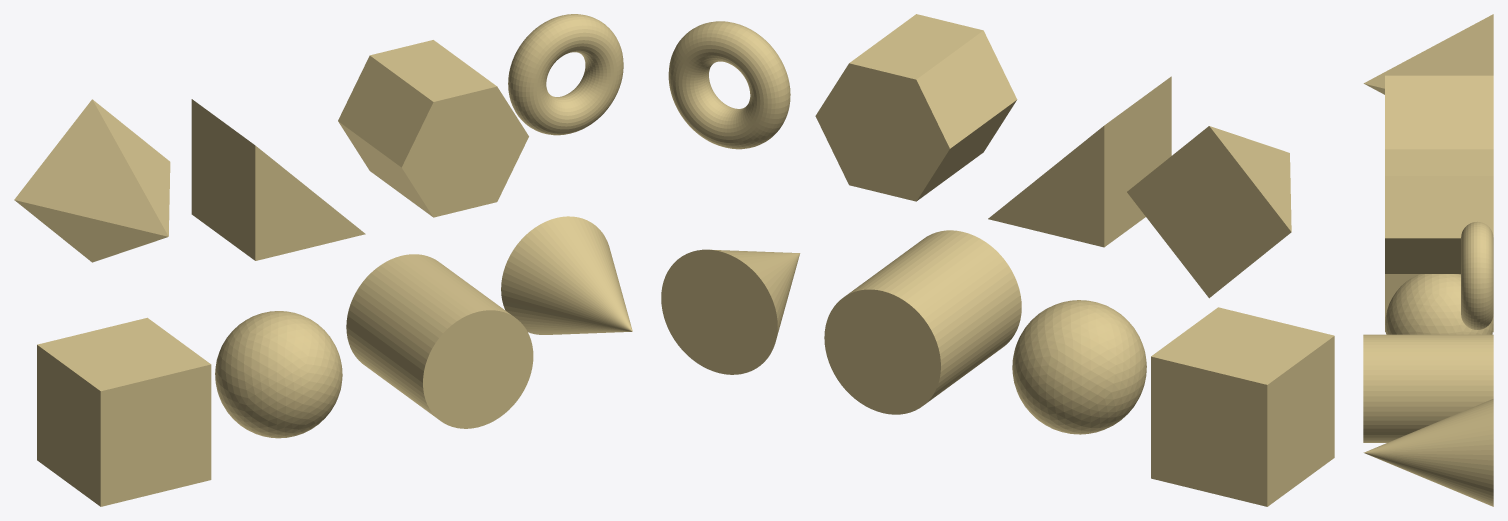
File: ep8-shape-set.glb
3 renders of one model, left to right at view 1: azimuth 30°, elevation 25°; view 2: azimuth 150°, elevation 25°; view 3: azimuth 270°, elevation 25°, orthographic. The views are drawn at different scales.
Parts seen in each view (by area): view 1: world; view 2: world; view 3: world.
Boxes of the visible parts, x1=… form: world: x1=14, y1=14, x2=632, y2=506; world: x1=661, y1=14, x2=1334, y2=506; world: x1=1363, y1=14, x2=1493, y2=506.
Size of the model in its own units: 135 by 75.18 by 30.
